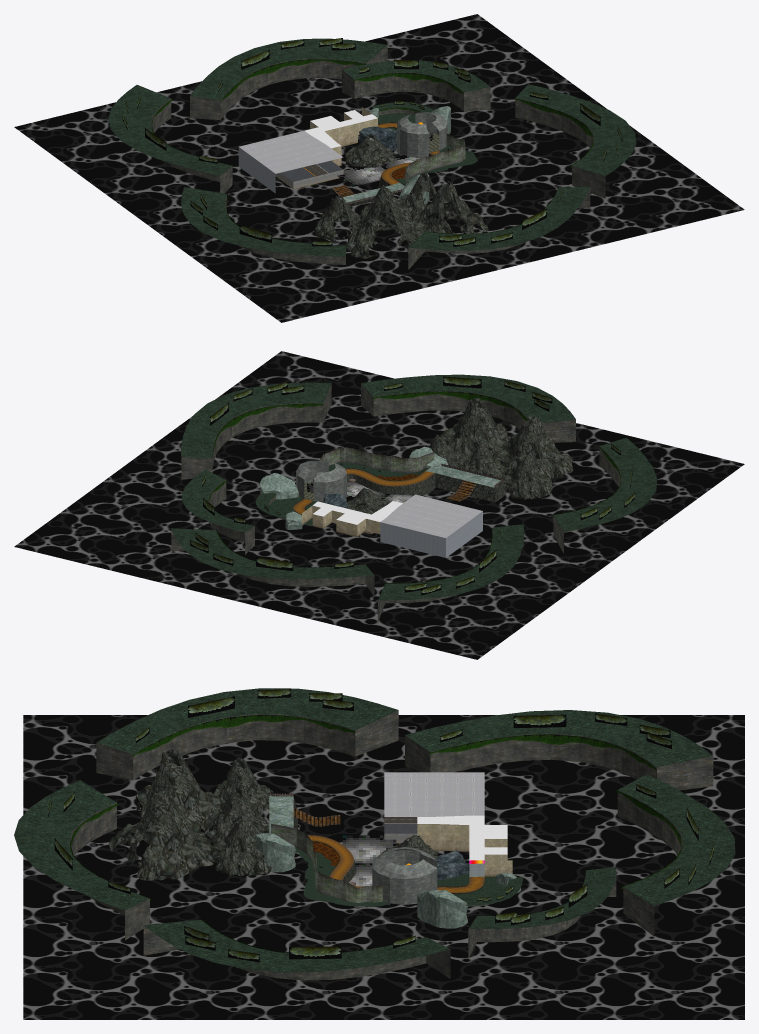
The picture shows the model from 3 angles, top to bottom: view 1: azimuth 30°, elevation 25°; view 2: azimuth 150°, elevation 25°; view 3: azimuth 270°, elevation 25°; orthographic projection. The views are drawn at different scales.
Visible parts, largest first — view 1: vines.010_Plane.142_water, vines.008_Plane.140_grass, vines.006_Plane.138_brickish_rock_wall, vines.002_Plane.134_black_rock, vines.007_Plane.139_bush, vines.030_Plane.161_ceiling, vines.009_Plane.141_vines, vines.035_Plane.166_metal_wall, vines.020_Plane.151_rock_wall, vines.016_Plane.148_concrete, vines.037_Plane.168_mist.001, vines.017_Plane.149_ceiling_again (+4 smaller); view 2: vines.010_Plane.142_water, vines.008_Plane.140_grass, vines.002_Plane.134_black_rock, vines.006_Plane.138_brickish_rock_wall, vines.007_Plane.139_bush, vines.030_Plane.161_ceiling, vines.029_Plane.160_more_concrete, vines.001_Plane.133_diif_rock, vines.009_Plane.141_vines, vines.020_Plane.151_rock_wall, vines.035_Plane.166_metal_wall, vines.016_Plane.148_concrete (+3 smaller); view 3: vines.010_Plane.142_water, vines.008_Plane.140_grass, vines.006_Plane.138_brickish_rock_wall, vines.002_Plane.134_black_rock, vines.007_Plane.139_bush, vines.030_Plane.161_ceiling, vines.009_Plane.141_vines, vines.001_Plane.133_diif_rock, vines.035_Plane.166_metal_wall, vines.016_Plane.148_concrete, vines.020_Plane.151_rock_wall, vines.017_Plane.149_ceiling_again (+3 smaller).
Boxes of the visible parts, <box> form: vines.010_Plane.142_water: <box>14,14,744,322</box>; vines.008_Plane.140_grass: <box>108,38,636,256</box>; vines.006_Plane.138_brickish_rock_wall: <box>150,45,605,269</box>; vines.002_Plane.134_black_rock: <box>314,134,488,258</box>; vines.007_Plane.139_bush: <box>122,38,622,246</box>; vines.030_Plane.161_ceiling: <box>239,130,343,173</box>; vines.009_Plane.141_vines: <box>151,59,593,246</box>; vines.035_Plane.166_metal_wall: <box>397,112,447,157</box>; vines.020_Plane.151_rock_wall: <box>405,133,465,183</box>; vines.016_Plane.148_concrete: <box>310,107,377,166</box>; vines.037_Plane.168_mist.001: <box>337,135,432,186</box>; vines.017_Plane.149_ceiling_again: <box>305,110,377,148</box>; vines.010_Plane.142_water: <box>14,351,744,659</box>; vines.008_Plane.140_grass: <box>171,374,657,600</box>; vines.002_Plane.134_black_rock: <box>346,397,573,514</box>; vines.006_Plane.138_brickish_rock_wall: <box>171,383,621,622</box>; vines.007_Plane.139_bush: <box>190,376,634,595</box>; vines.030_Plane.161_ceiling: <box>380,494,482,537</box>; vines.029_Plane.160_more_concrete: <box>380,511,482,557</box>; vines.001_Plane.133_diif_rock: <box>260,446,500,529</box>; vines.009_Plane.141_vines: <box>209,391,620,583</box>; vines.020_Plane.151_rock_wall: <box>319,447,434,472</box>; vines.035_Plane.166_metal_wall: <box>296,460,346,501</box>; vines.016_Plane.148_concrete: <box>302,505,380,536</box>; vines.010_Plane.142_water: <box>23,715,744,1019</box>; vines.008_Plane.140_grass: <box>14,688,735,972</box>; vines.006_Plane.138_brickish_rock_wall: <box>68,710,713,980</box>; vines.002_Plane.134_black_rock: <box>109,749,438,882</box>; vines.007_Plane.139_bush: <box>36,689,713,962</box>; vines.030_Plane.161_ceiling: <box>384,772,484,816</box>; vines.009_Plane.141_vines: <box>70,715,681,952</box>; vines.001_Plane.133_diif_rock: <box>253,796,520,928</box>; vines.035_Plane.166_metal_wall: <box>372,847,437,905</box>; vines.016_Plane.148_concrete: <box>417,824,512,876</box>; vines.020_Plane.151_rock_wall: <box>271,823,382,908</box>; vines.017_Plane.149_ceiling_again: <box>417,815,507,860</box>.
Bounding box in the file's own units: 138958 × 18078 × 140782.
Materials: 38 (38 with a texture image).
